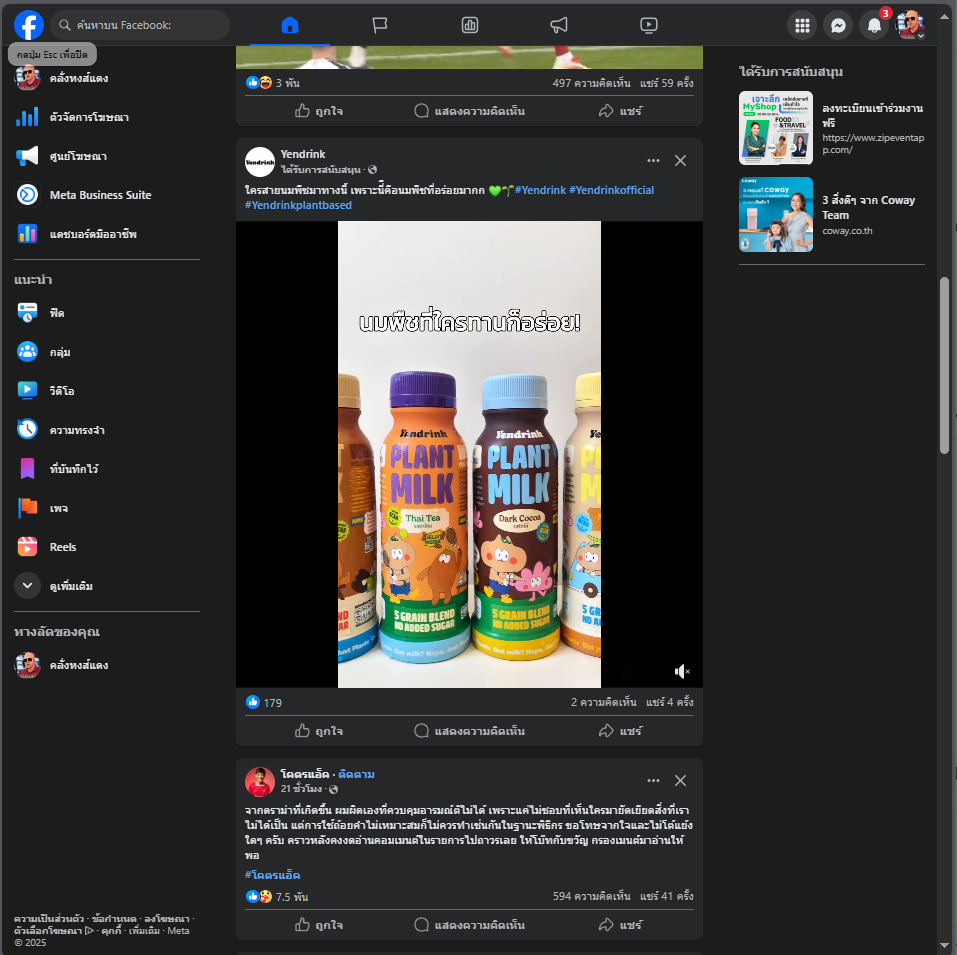topic: (237, 135, 706, 745), (235, 756, 706, 943), (237, 48, 703, 126)
